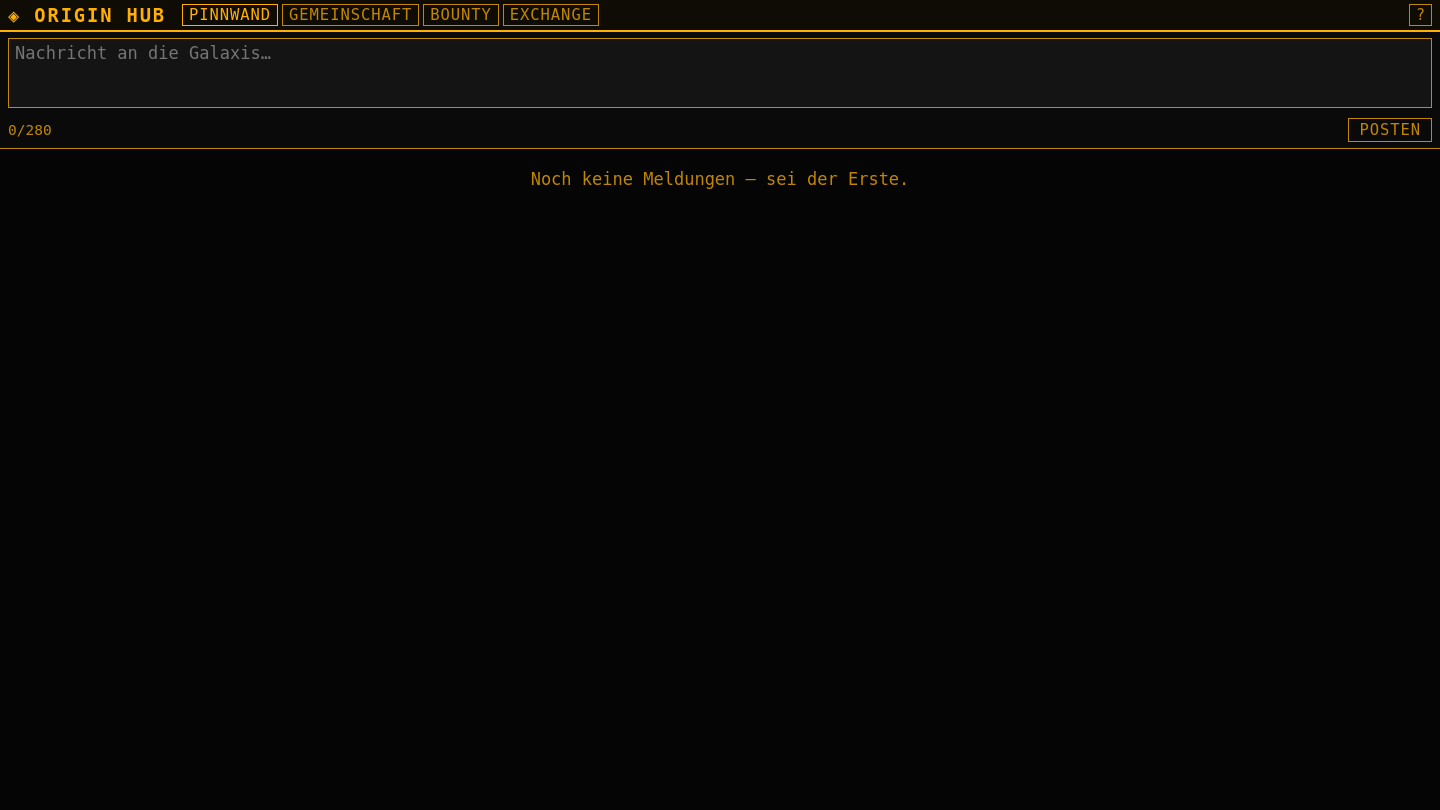
Scenario: OriginHub — STARTHILFE-Aufträge › marks claimed bounty as ERLEDIGT without claim button
Click the text "BOUNTY" at coordinates (461, 15), box [423, 4, 499, 26]
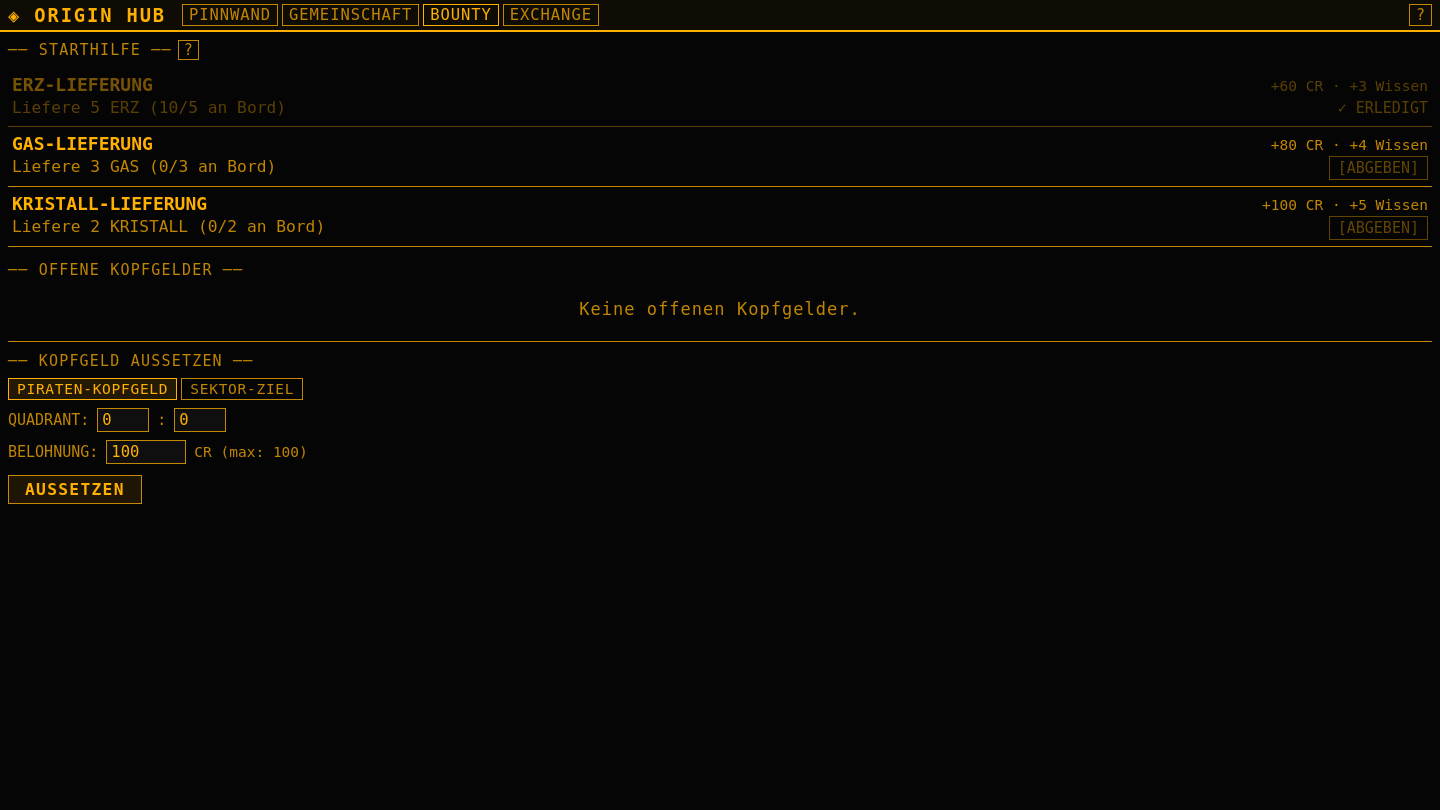
Expected: the text "✓ ERLEDIGT" is shown, [1338, 98, 1428, 119]
